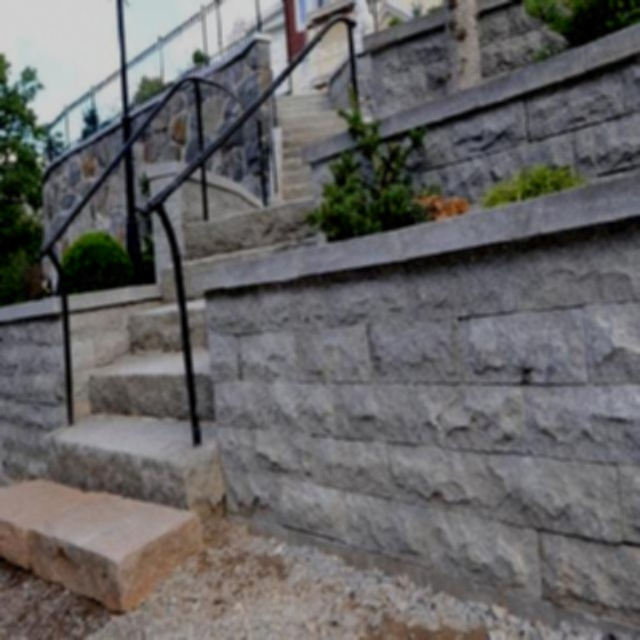stair: (0, 197, 318, 614), (273, 89, 376, 203)
